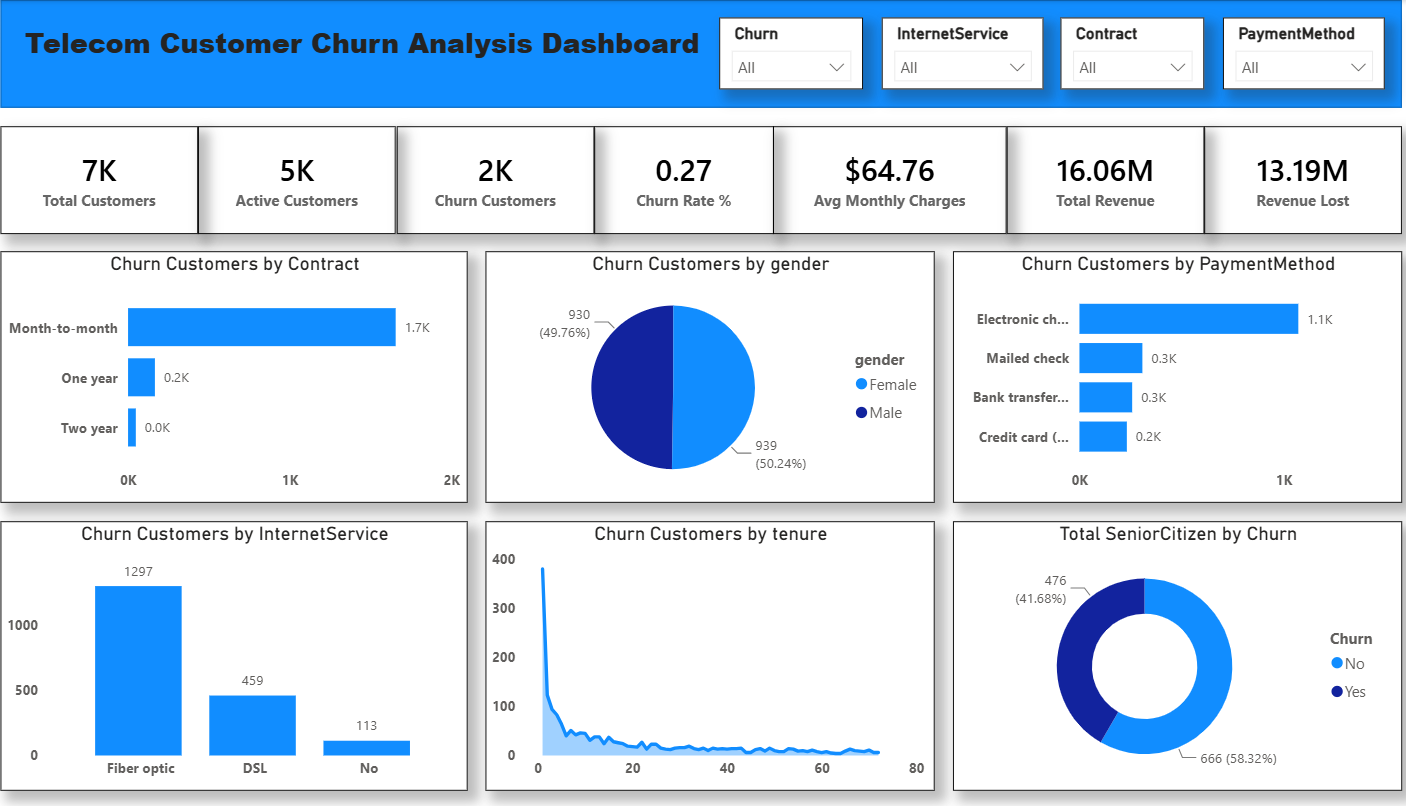

The dashboard page shown, as its layout file describes it:
{"tool":"powerbi","page":{"name":"Executive Dashboard","canvas":[1280,720],"ordinal":0},"visuals":[{"type":"cardVisual","fields":{"Data":["DAX_Measures.Total Customers"]},"box":[16,112,176,96],"z":0},{"type":"cardVisual","fields":{"Data":["DAX_Measures.Total Revenue"]},"box":[912,112,176,96],"z":1000},{"type":"cardVisual","fields":{"Data":["DAX_Measures.Active Customers"]},"box":[192,112,176,96],"z":2000},{"type":"cardVisual","fields":{"Data":["DAX_Measures.Churn Customers"]},"box":[368,112,176,96],"z":3000},{"type":"cardVisual","fields":{"Data":["DAX_Measures.Churn Rate %"]},"box":[544,112,160,96],"z":4000},{"type":"cardVisual","fields":{"Data":["DAX_Measures.Revenue Lost"]},"box":[1088,112,176,96],"z":5000},{"type":"cardVisual","fields":{"Data":["DAX_Measures.Avg Monthly Charges"]},"box":[704,112,208,96],"z":6000},{"type":"barChart","fields":{"Category":["Telco Churn.Contract"],"Y":["DAX_Measures.Churn Customers"]},"box":[16,224,416,224],"z":7000},{"type":"pieChart","fields":{"Y":["DAX_Measures.Churn Customers"],"Category":["Telco Churn.gender"]},"box":[448,224,400,224],"z":8000},{"type":"clusteredColumnChart","fields":{"Category":["Telco Churn.InternetService"],"Y":["DAX_Measures.Churn Customers"]},"box":[16,464,416,240],"z":9000},{"type":"clusteredBarChart","fields":{"Category":["Telco Churn.PaymentMethod"],"Y":["DAX_Measures.Churn Customers"]},"box":[864,224,400,224],"z":10000},{"type":"areaChart","fields":{"Category":["Telco Churn.tenure"],"Y":["DAX_Measures.Churn Customers"]},"box":[448,464,400,240],"z":11000},{"type":"donutChart","title":"Total SeniorCitizen by Churn","fields":{"Y":["Sum(Telco Churn.SeniorCitizen)"],"Category":["Telco Churn.Churn"]},"box":[864,464,400,240],"z":12000},{"type":"shape","box":[16,0,1248,96],"z":13000},{"type":"textbox","box":[32,16,624,64],"z":14000},{"type":"slicer","fields":{"Values":["Telco Churn.Churn"]},"box":[656,16,128,64],"z":15000},{"type":"slicer","fields":{"Values":["Telco Churn.InternetService"]},"box":[800,16,144,64],"z":16000},{"type":"slicer","fields":{"Values":["Telco Churn.Contract"]},"box":[960,16,128,64],"z":17000},{"type":"slicer","fields":{"Values":["Telco Churn.PaymentMethod"]},"box":[1104,16,144,64],"z":18000}]}

Visuals, with their boxes in screenshot pixels (x1, y1, x2, y2), scaled from the page's 1280x720 canvas onto the 1406x806 screenshot:
cardVisual - DAX_Measures.Total Customers: (x1=18, y1=125, x2=211, y2=233)
cardVisual - DAX_Measures.Total Revenue: (x1=1002, y1=125, x2=1195, y2=233)
cardVisual - DAX_Measures.Active Customers: (x1=211, y1=125, x2=404, y2=233)
cardVisual - DAX_Measures.Churn Customers: (x1=404, y1=125, x2=598, y2=233)
cardVisual - DAX_Measures.Churn Rate %: (x1=598, y1=125, x2=773, y2=233)
cardVisual - DAX_Measures.Revenue Lost: (x1=1195, y1=125, x2=1388, y2=233)
cardVisual - DAX_Measures.Avg Monthly Charges: (x1=773, y1=125, x2=1002, y2=233)
barChart - Telco Churn.Contract x DAX_Measures.Churn Customers: (x1=18, y1=251, x2=475, y2=502)
pieChart - DAX_Measures.Churn Customers x Telco Churn.gender: (x1=492, y1=251, x2=931, y2=502)
clusteredColumnChart - Telco Churn.InternetService x DAX_Measures.Churn Customers: (x1=18, y1=519, x2=475, y2=788)
clusteredBarChart - Telco Churn.PaymentMethod x DAX_Measures.Churn Customers: (x1=949, y1=251, x2=1388, y2=502)
areaChart - Telco Churn.tenure x DAX_Measures.Churn Customers: (x1=492, y1=519, x2=931, y2=788)
"Total SeniorCitizen by Churn" donutChart: (x1=949, y1=519, x2=1388, y2=788)
shape: (x1=18, y1=0, x2=1388, y2=107)
textbox: (x1=35, y1=18, x2=721, y2=90)
slicer - Telco Churn.Churn: (x1=721, y1=18, x2=861, y2=90)
slicer - Telco Churn.InternetService: (x1=879, y1=18, x2=1037, y2=90)
slicer - Telco Churn.Contract: (x1=1054, y1=18, x2=1195, y2=90)
slicer - Telco Churn.PaymentMethod: (x1=1213, y1=18, x2=1371, y2=90)
